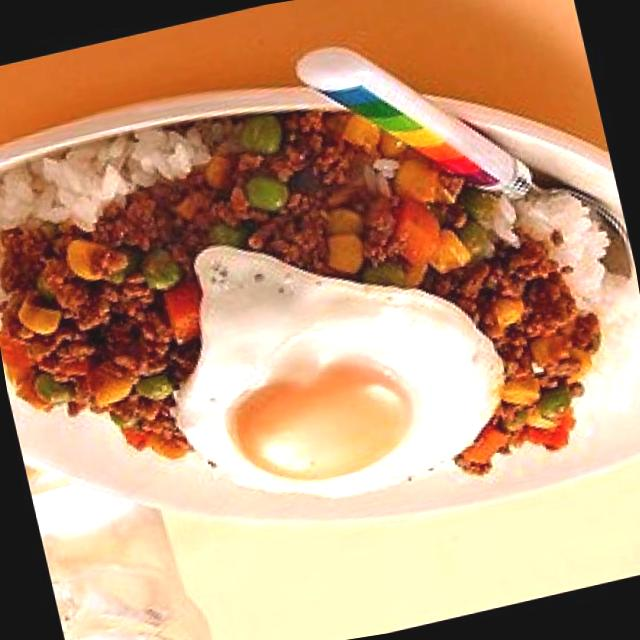Egg: (167, 235, 514, 540)
